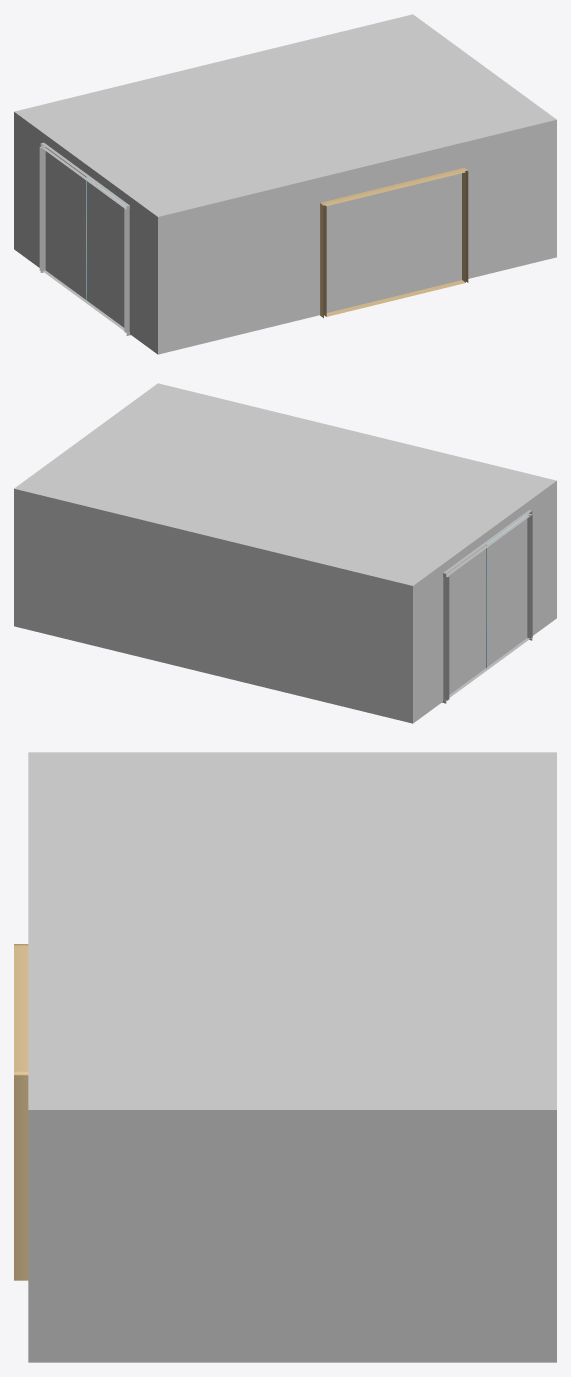
File: RoomG4.fbx
3 views of the same model, one above another, from view 1: azimuth 30°, elevation 25°; view 2: azimuth 150°, elevation 25°; view 3: azimuth 270°, elevation 25° (orthographic). The views are drawn at different scales.
Visible parts, largest first — view 1: celing, wall_closet, wall_window, closet_waku, window_waku_right, window_waku_left, window_waku_top; view 2: celing, wall_not_closet, wall_window, window_waku_right, window_waku_left, window_waku_top; view 3: celing, wall_not_window, closet_waku.
Boxes of the visible parts, x1,y1,x2,y2 form: celing: [14, 14, 556, 216]; wall_closet: [158, 119, 556, 354]; wall_window: [14, 112, 157, 354]; closet_waku: [320, 167, 468, 317]; window_waku_right: [39, 146, 45, 271]; window_waku_left: [124, 208, 129, 332]; window_waku_top: [40, 142, 129, 209]; celing: [14, 383, 556, 585]; wall_not_closet: [14, 488, 412, 723]; wall_window: [413, 481, 556, 723]; window_waku_right: [443, 575, 449, 700]; window_waku_left: [527, 513, 532, 638]; window_waku_top: [443, 510, 532, 577]; celing: [28, 752, 556, 1109]; wall_not_window: [28, 1110, 556, 1362]; closet_waku: [14, 944, 28, 1280].
Bounding box in the file's own units: 737 × 242 × 467.
